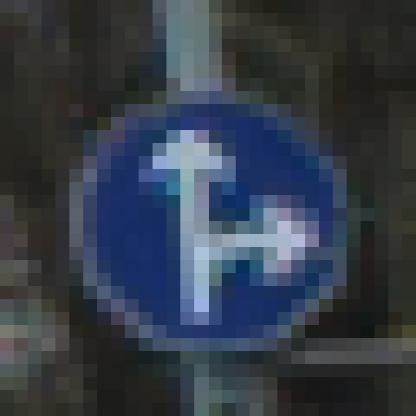Straight or Right: (70, 66, 348, 352)
